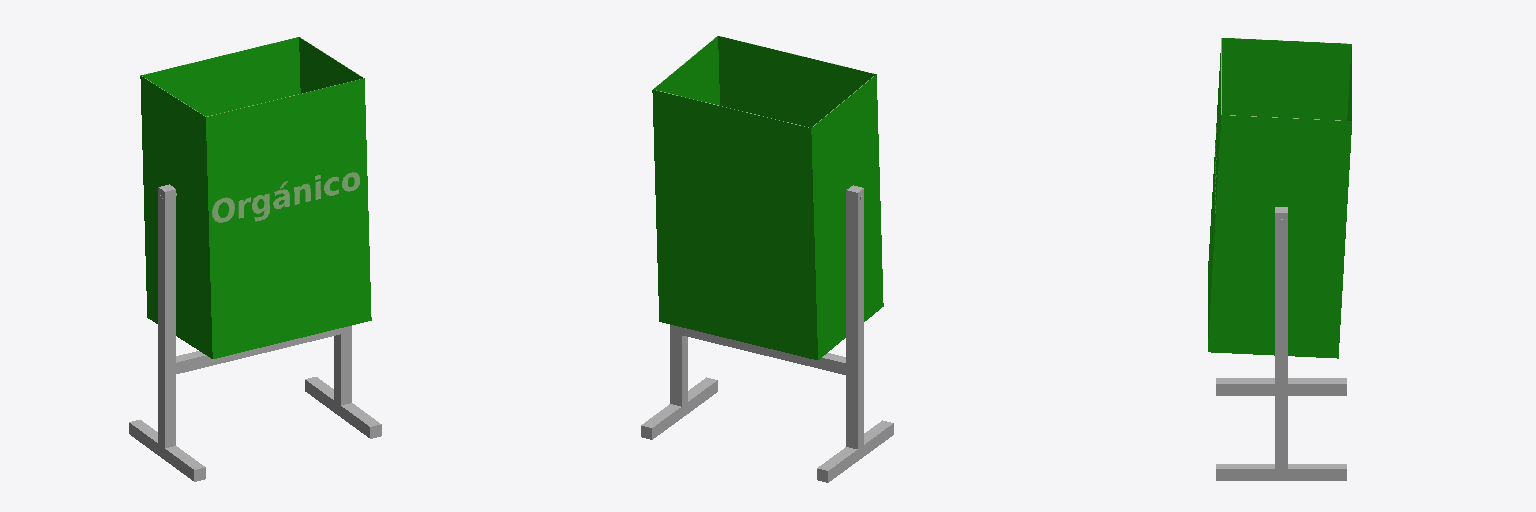
3 renders of one model, left to right at view 1: azimuth 30°, elevation 25°; view 2: azimuth 150°, elevation 25°; view 3: azimuth 270°, elevation 25°, orthographic.
Visible parts, largest first — view 1: bin; view 2: bin; view 3: bin.
Boxes of the visible parts, box(x1,y1,x2,y2) form: bin: box(129, 37, 381, 481); bin: box(641, 36, 893, 482); bin: box(1208, 38, 1351, 480).
Bounding box in the file's own units: 1.92 × 3.49 × 1.27.
Materials: 1 (1 with a texture image).